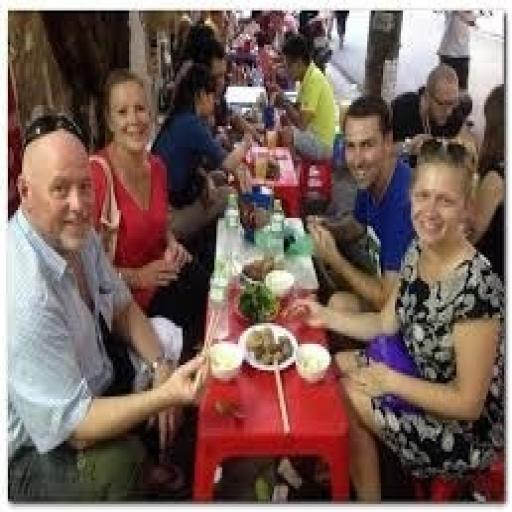eating: (8, 16, 502, 499), (6, 108, 210, 499)
